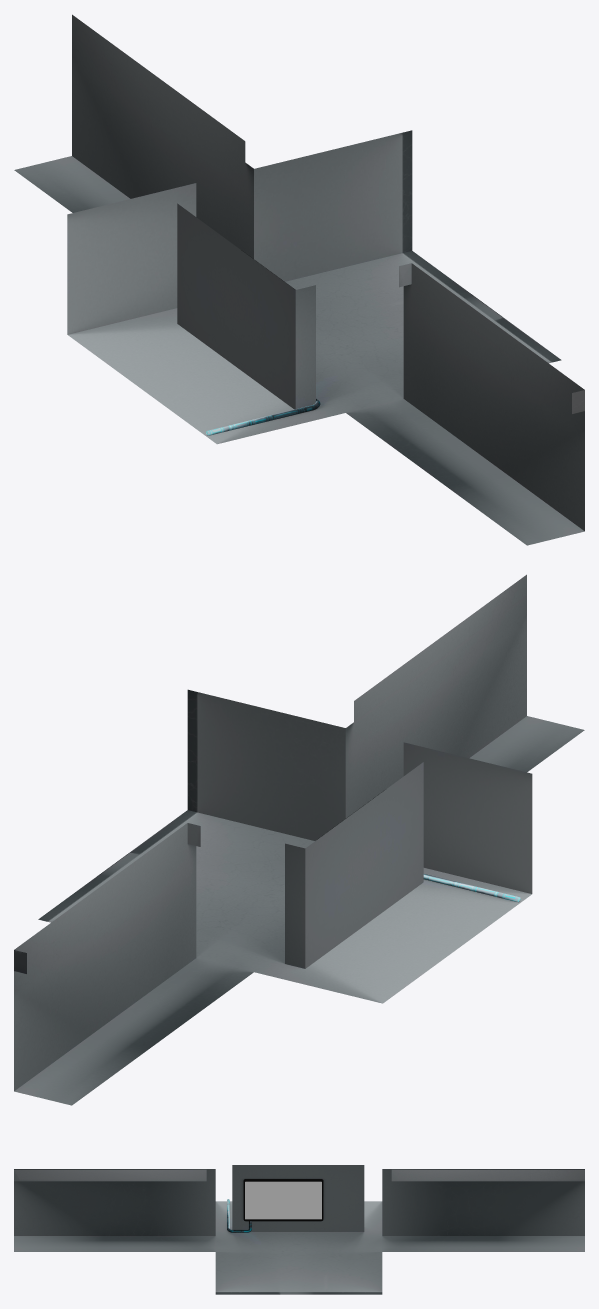
Rendered from TOSKU_Home_Textured_Test.glb.
3 views of the same model, one above another, from view 1: azimuth 30°, elevation 25°; view 2: azimuth 150°, elevation 25°; view 3: azimuth 270°, elevation 25° (orthographic). The views are drawn at different scales.
Visible parts, largest first — view 1: Building.Home, Building.Home.Floor, Homepage Large Screen Wires; view 2: Building.Home, Building.Home.Floor; view 3: Building.Home, Building.Home.Floor, Home Large Screen, Home Screen Boarder.
Part boxes in pixels (bbox=[...]): Building.Home: bbox=[67, 14, 584, 530]; Building.Home.Floor: bbox=[14, 156, 584, 545]; Homepage Large Screen Wires: bbox=[206, 399, 320, 435]; Building.Home: bbox=[14, 574, 532, 1090]; Building.Home.Floor: bbox=[14, 716, 584, 1105]; Building.Home: bbox=[14, 1165, 584, 1235]; Building.Home.Floor: bbox=[14, 1201, 584, 1294]; Home Large Screen: bbox=[245, 1181, 321, 1219]; Home Screen Boarder: bbox=[243, 1179, 323, 1221].
Bounding box in the file's own units: 11.98 × 4.71 × 30.88.
Materials: 3 (2 with a texture image).
